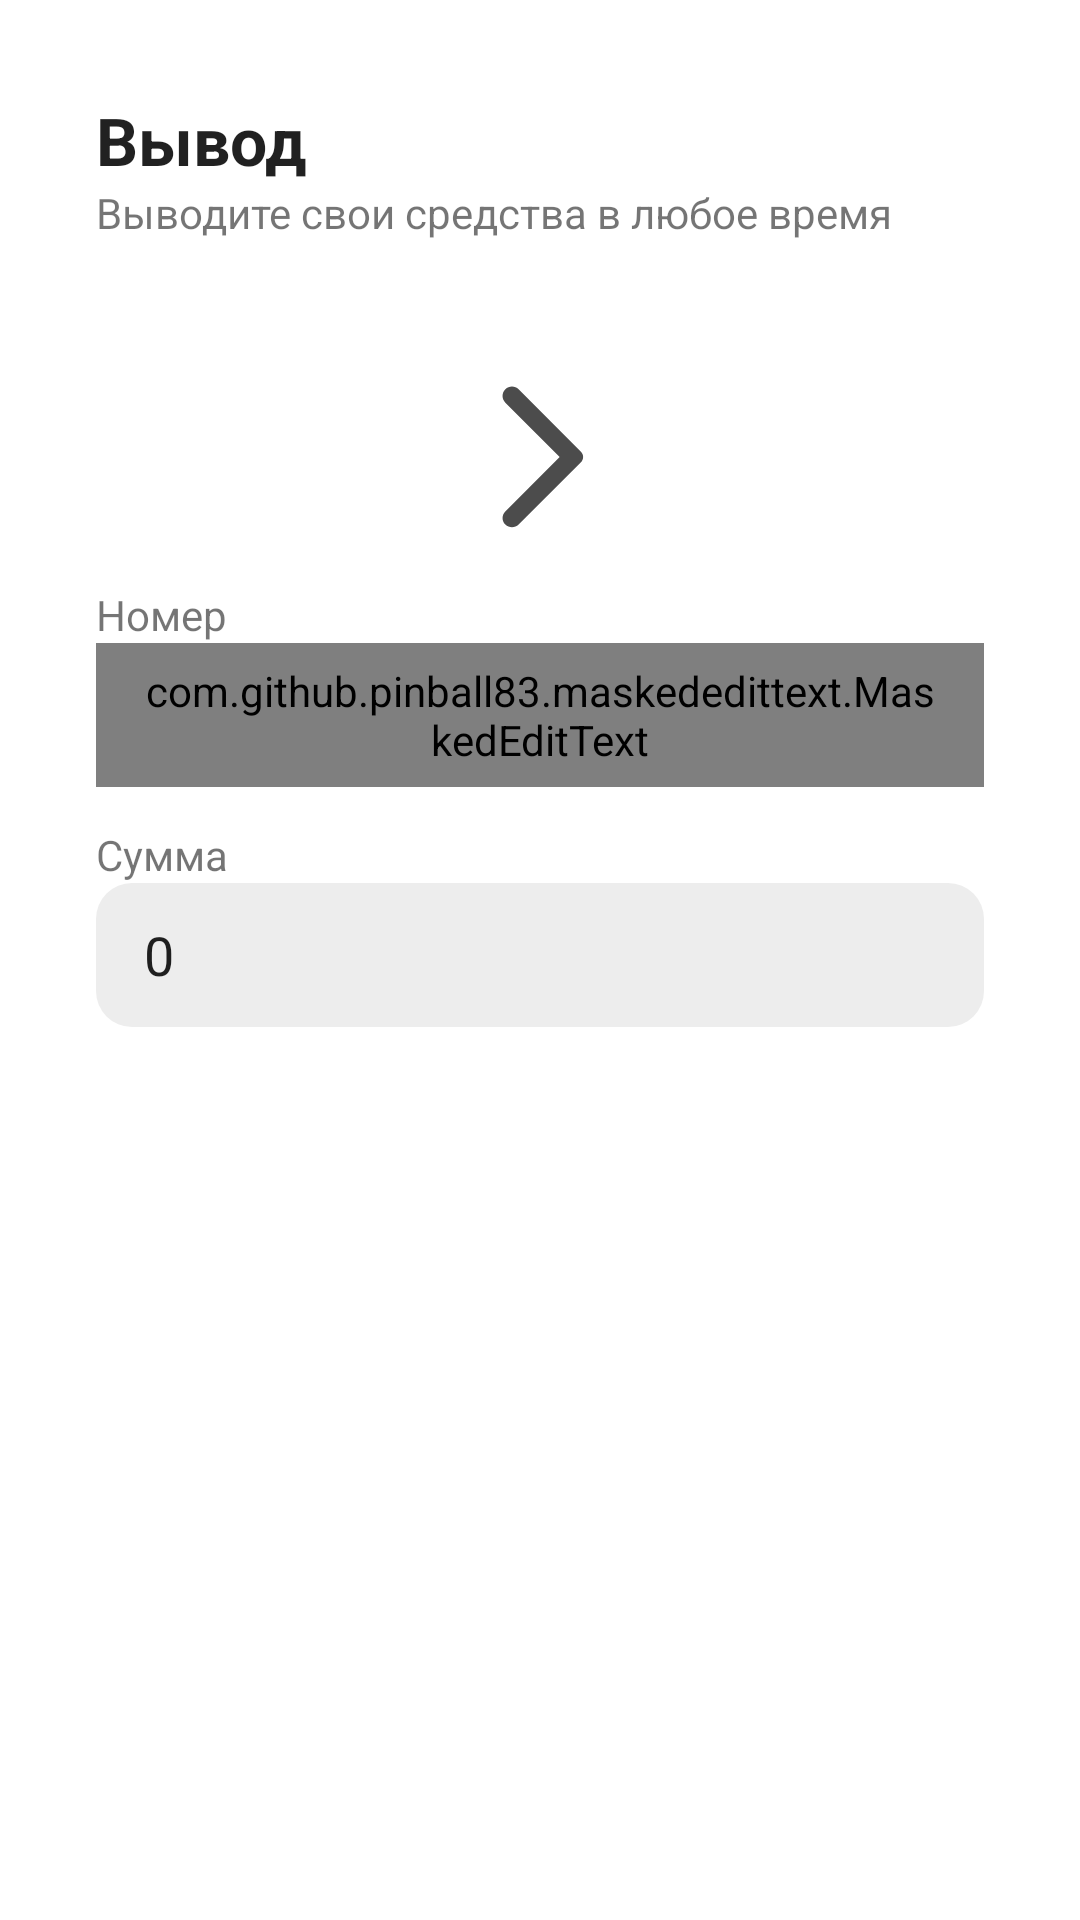

Icon click points for this 1080 × 1920 phone screenshot, format (x,y):
right: (542,457)
